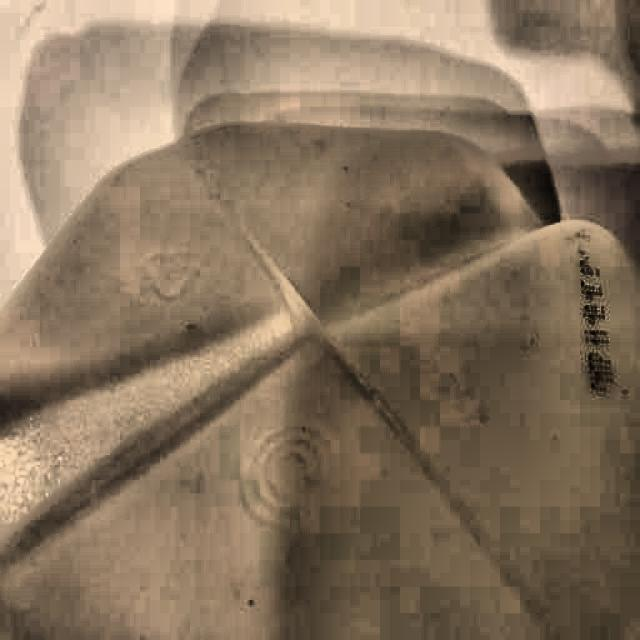plastic: (6, 90, 640, 640)
